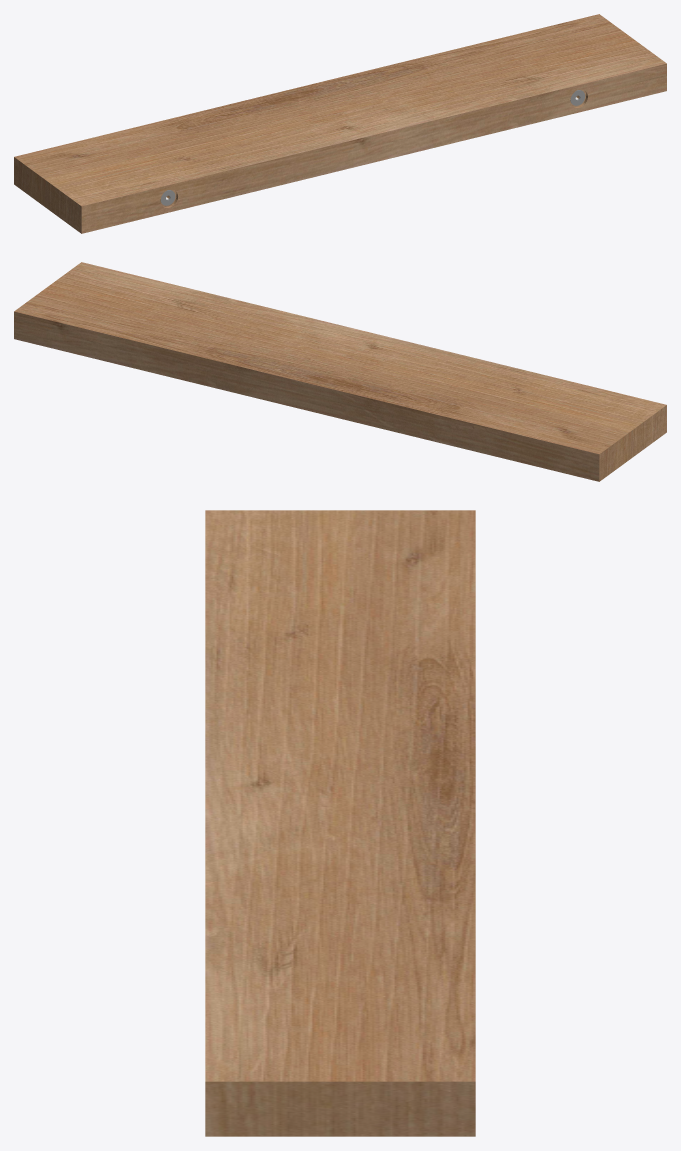
The model's file is shelf-BmQRs12J.glb.
The picture shows the model from 3 angles, top to bottom: view 1: azimuth 30°, elevation 25°; view 2: azimuth 150°, elevation 25°; view 3: azimuth 270°, elevation 25°; orthographic projection. The views are drawn at different scales.
Parts seen in each view (by area): view 1: Material2.005, Material3.001; view 2: Material2.005, Material3.001; view 3: Material2.005, Material3.
Boxes of the visible parts, x1,y1,x2,y2 form: Material2.005: (14,14,666,233); Material3.001: (14,157,81,233); Material2.005: (14,262,666,481); Material3.001: (599,405,666,481); Material2.005: (205,510,475,1081); Material3: (205,1081,475,1136).
Bounding box in the file's own units: 2.76 × 0.124 × 0.5512.
Materials: 6 (2 with a texture image).
